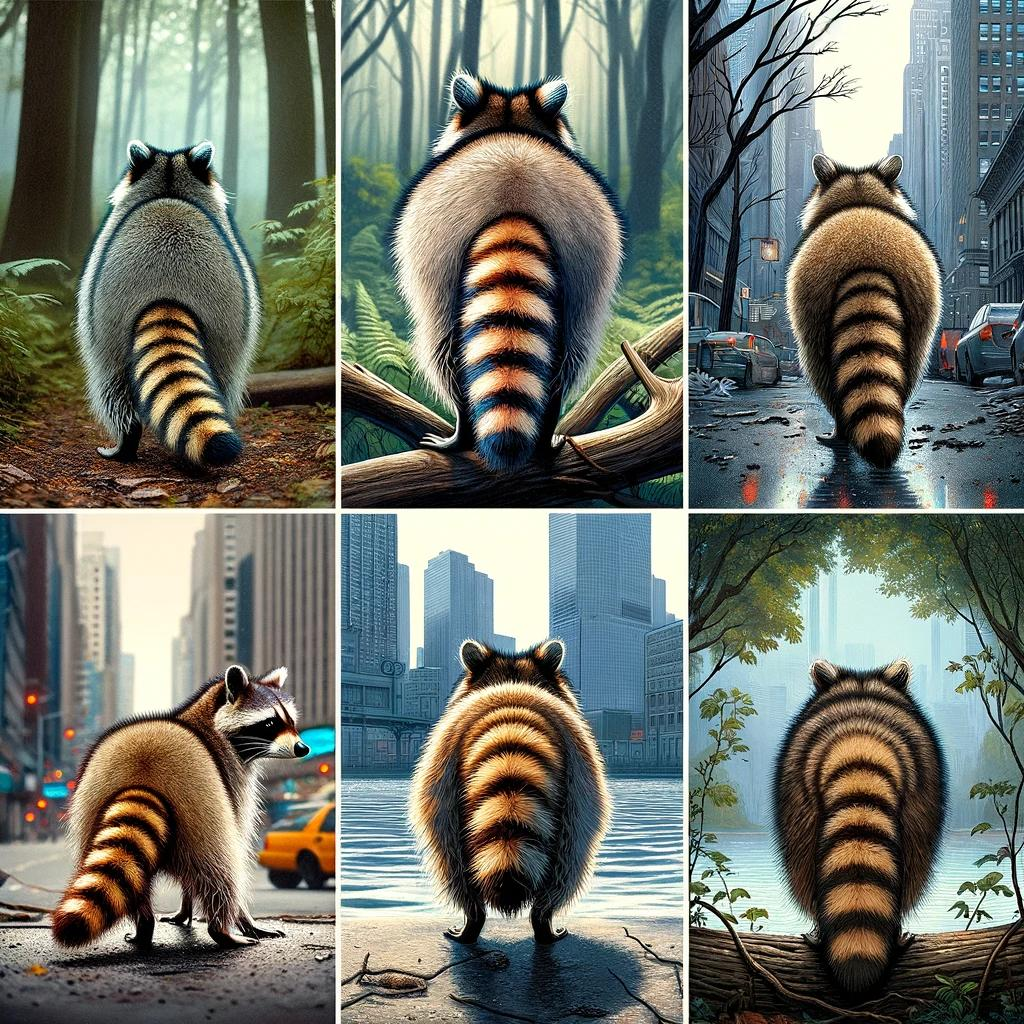raccoon: (375, 58, 642, 490), (45, 650, 320, 955), (57, 123, 280, 480), (393, 625, 627, 960), (758, 643, 967, 1017), (770, 140, 957, 483)
